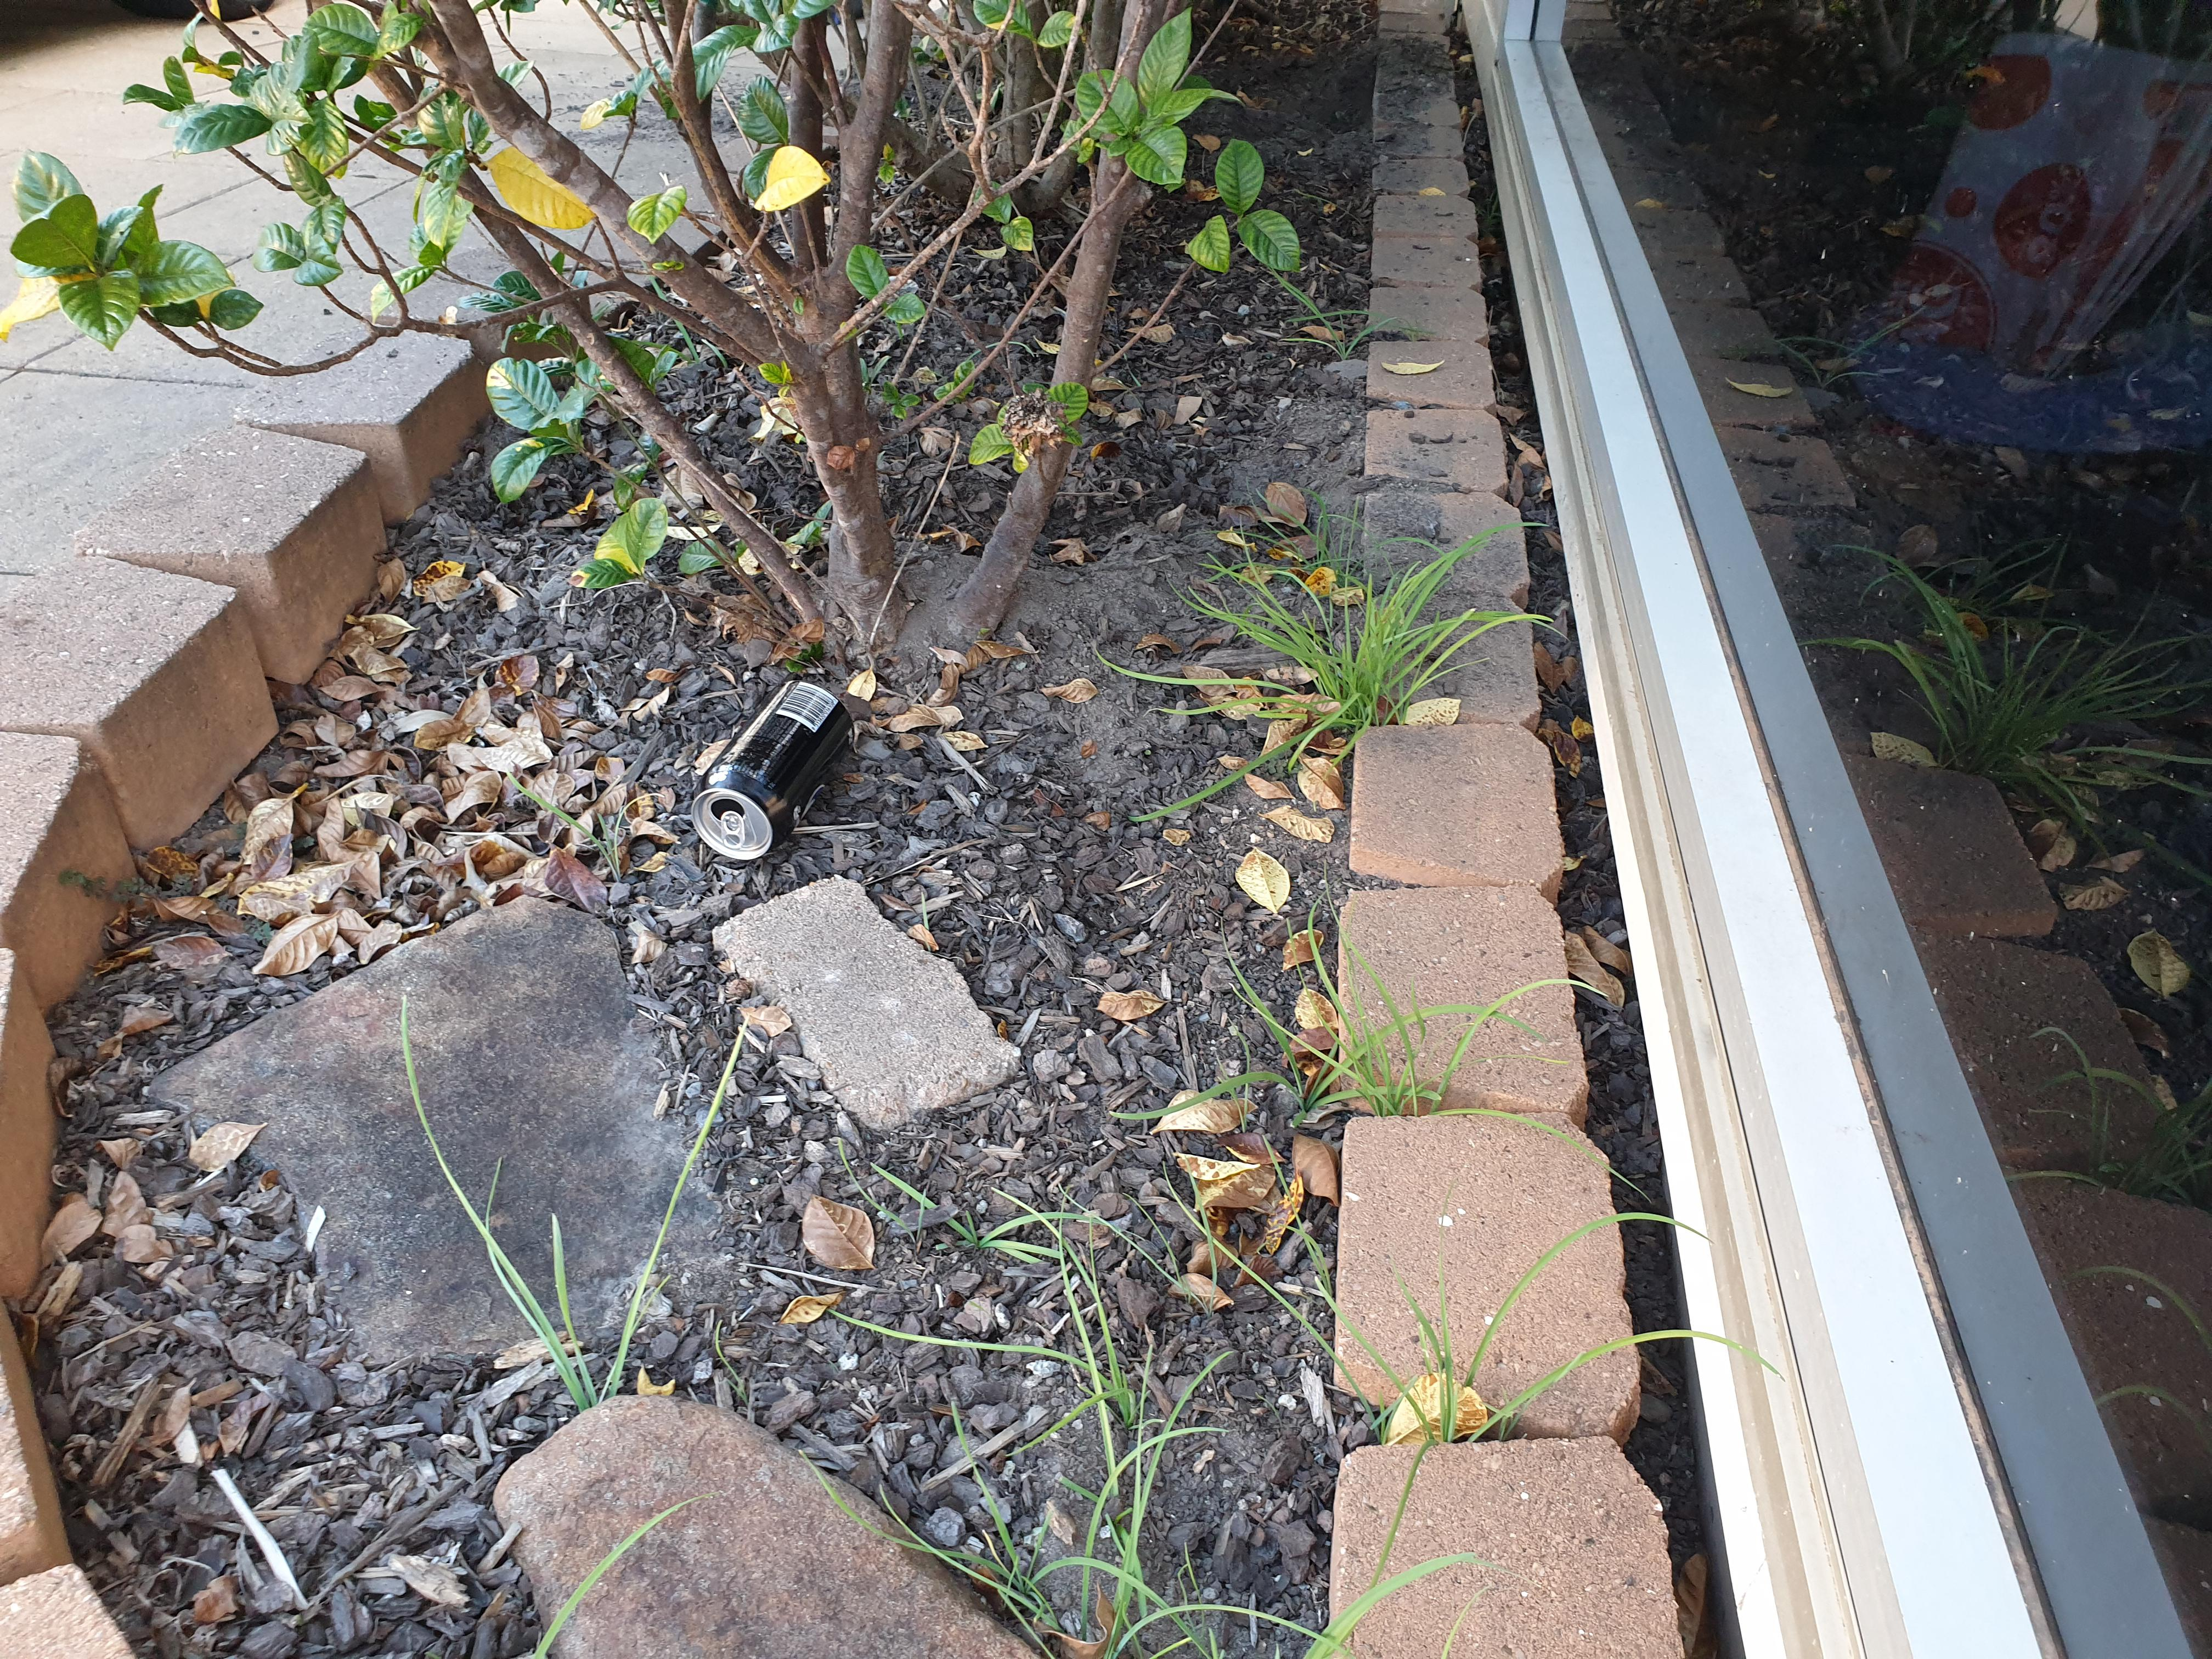Plastic Bottle: (691, 680, 855, 859)
